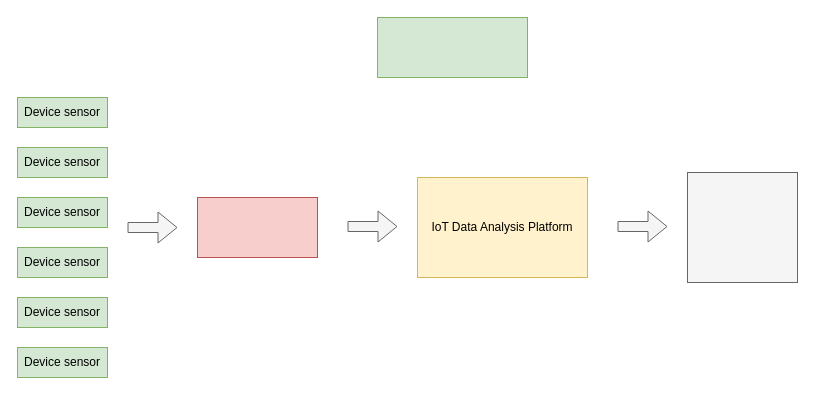
This 815x395 diagram has some shape labels left out. The centre of each missing label's shape, as x and y in pixels:
"Business Flow" goes at [452,47].
"Business Systems" goes at [742,227].
"EMQ" goes at [257,227].
